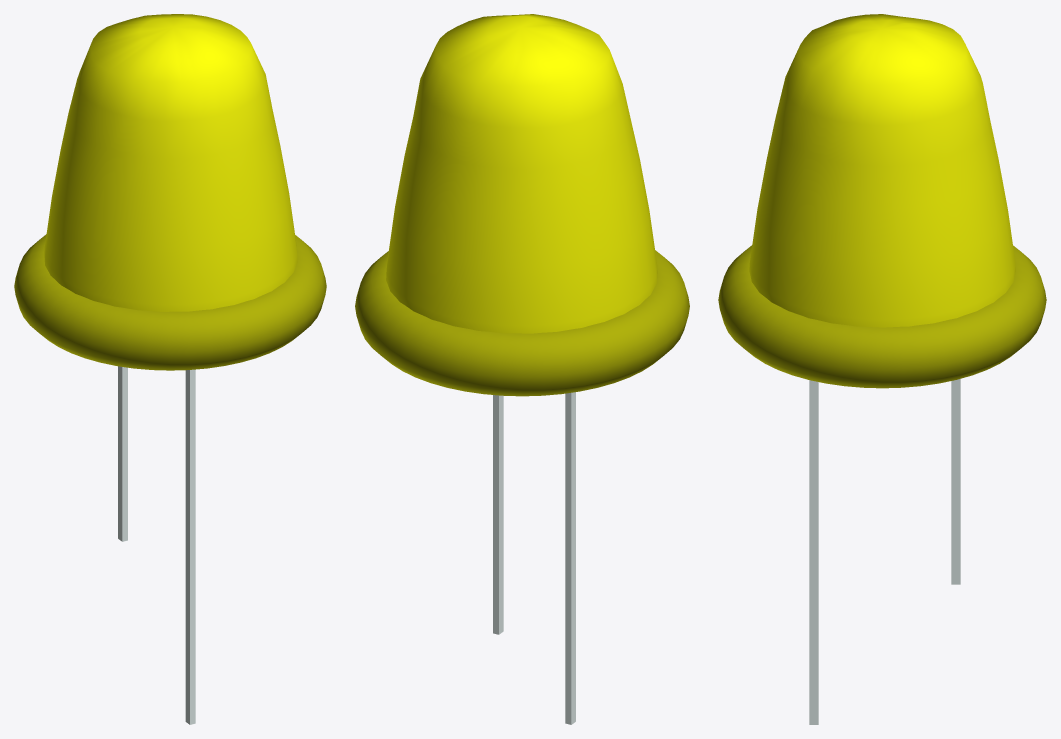
Rendered from LED Yellow.fbx.
The picture shows the model from 3 angles, left to right: view 1: azimuth 30°, elevation 25°; view 2: azimuth 150°, elevation 25°; view 3: azimuth 270°, elevation 25°; orthographic projection. The views are drawn at different scales.
Visible parts, largest first — view 1: Cone, Cube.002, Cube.003; view 2: Cone, Cube.002, Cube.003; view 3: Cone, Cube.002, Cube.003.
Part boxes in pixels (<box>): Cone: <box>14,14,326,370</box>; Cube.002: <box>185,369,195,724</box>; Cube.003: <box>118,366,127,541</box>; Cone: <box>355,14,689,396</box>; Cube.002: <box>565,392,575,724</box>; Cube.003: <box>493,395,503,634</box>; Cone: <box>718,14,1046,388</box>; Cube.002: <box>809,380,818,724</box>; Cube.003: <box>951,379,960,584</box>.
Size of the model in its own units: 11.47 by 27.07 by 11.47.
